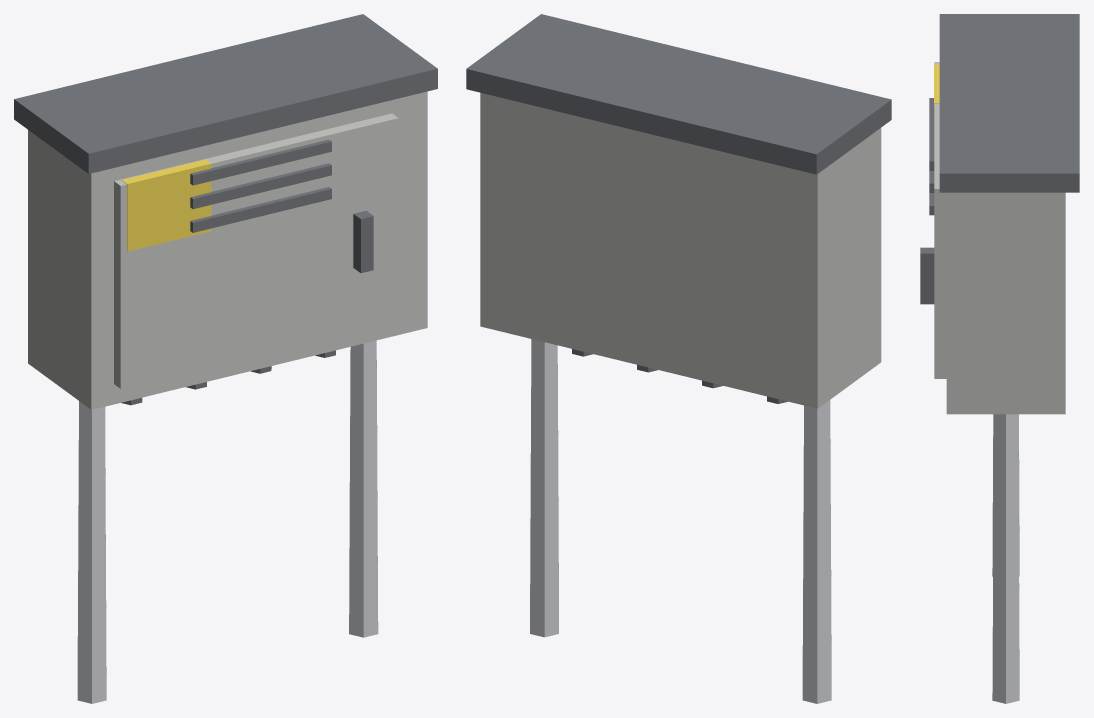
Rendered from wind-and-solar-energy-farm-string-combiner-box-c2147ebb__34062.glb.
3 renders of one model, left to right at view 1: azimuth 30°, elevation 25°; view 2: azimuth 150°, elevation 25°; view 3: azimuth 270°, elevation 25°, orthographic. The views are drawn at different scales.
Visible parts, largest first — view 1: string-combiner-box, door/grey, door/charcoal; view 2: string-combiner-box; view 3: string-combiner-box, door/grey, door/charcoal.
Part boxes in pixels (bbox=[...]): string-combiner-box: bbox=[14, 14, 437, 703]; door/grey: bbox=[114, 113, 398, 388]; door/charcoal: bbox=[190, 139, 373, 273]; string-combiner-box: bbox=[466, 14, 891, 703]; string-combiner-box: bbox=[934, 14, 1079, 703]; door/grey: bbox=[934, 62, 946, 378]; door/charcoal: bbox=[920, 98, 934, 304].
Bounding box in the file's own units: 1.08 × 1.71 × 0.455.
